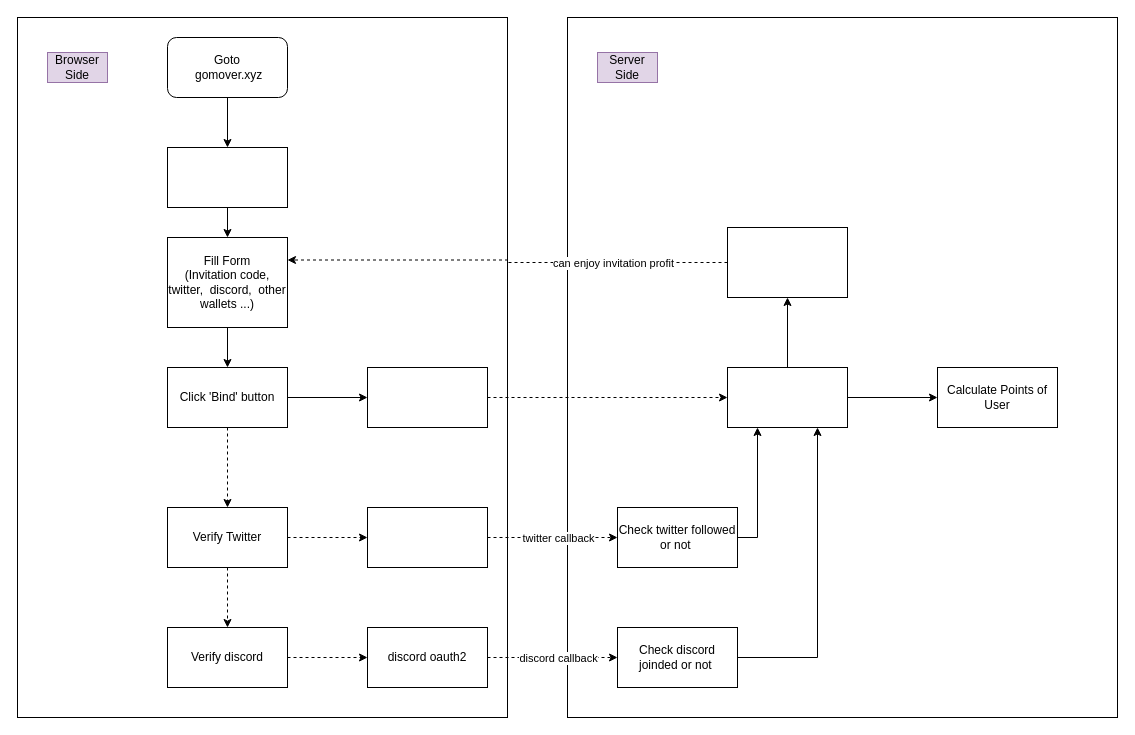
Some shapes in this 1135 by 735 pixel diagram are drawn without their labels. Here are the shapes that lost their labels. From the top down, the box of each, then its label:
(166, 146, 288, 208): Open wallet (evm & aptos)
(726, 226, 848, 298): Generate Invitation code if Twitter or Discord Verified
(366, 366, 488, 428): Use current wallet Sign this form
(726, 366, 848, 428): Save/Update User settings
(366, 506, 488, 568): twitter Oauth2
